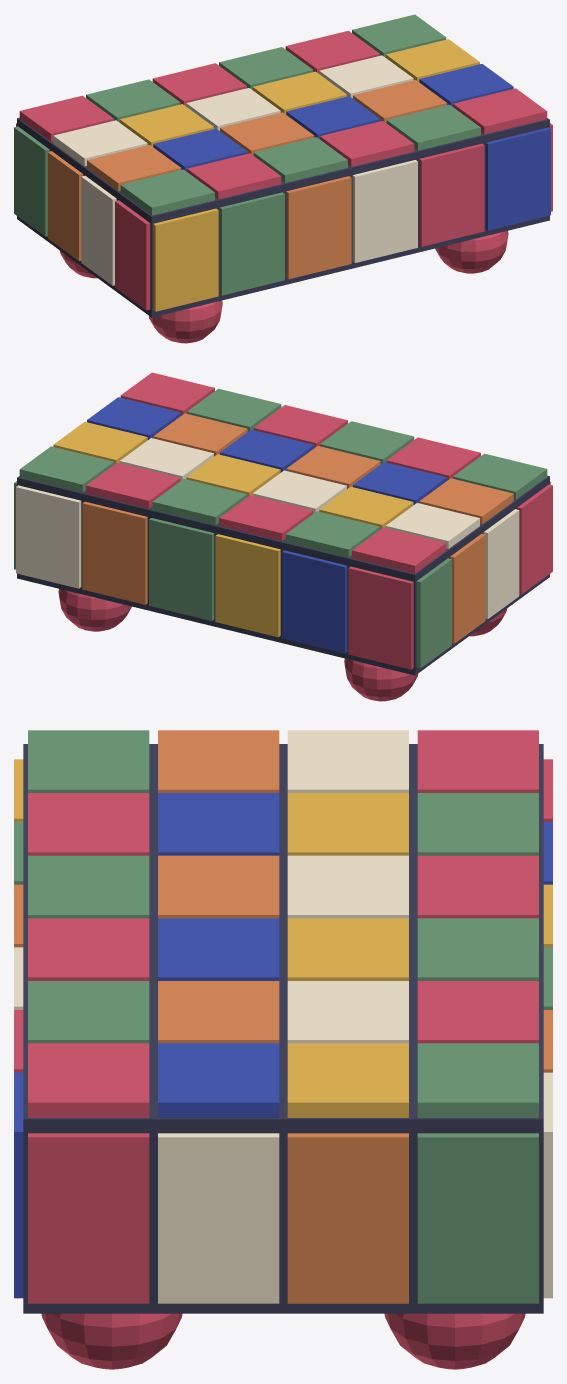
Rendered from chelebi-rubik-table.glb.
3 renders of one model, top to bottom at view 1: azimuth 30°, elevation 25°; view 2: azimuth 150°, elevation 25°; view 3: azimuth 270°, elevation 25°, orthographic. The views are drawn at different scales.
Visible parts, largest first — view 1: chelebi-rubik-table; view 2: chelebi-rubik-table; view 3: chelebi-rubik-table.
Boxes of the visible parts, x1,y1,x2,y2 form: chelebi-rubik-table: [14, 14, 552, 343]; chelebi-rubik-table: [14, 372, 552, 701]; chelebi-rubik-table: [14, 730, 552, 1369].
Bounding box in the file's own units: 1.48 × 0.5625 × 0.88.
